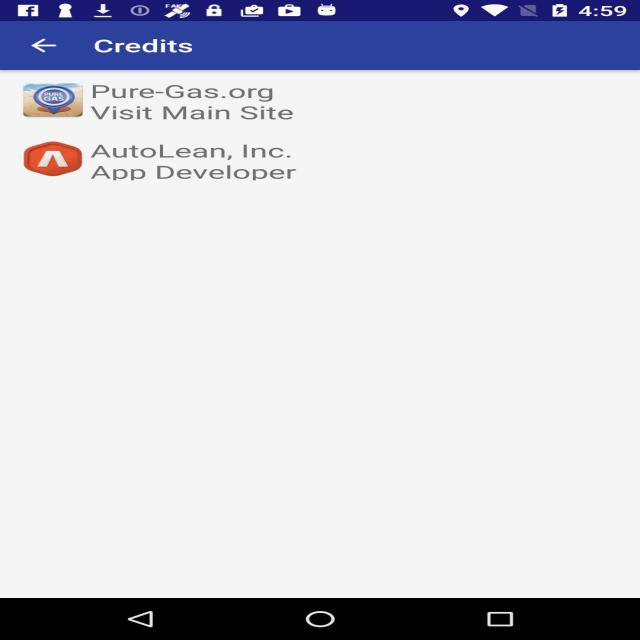image: (18, 132, 88, 184), (15, 80, 86, 117)
text: (93, 141, 312, 184), (89, 80, 305, 121)
